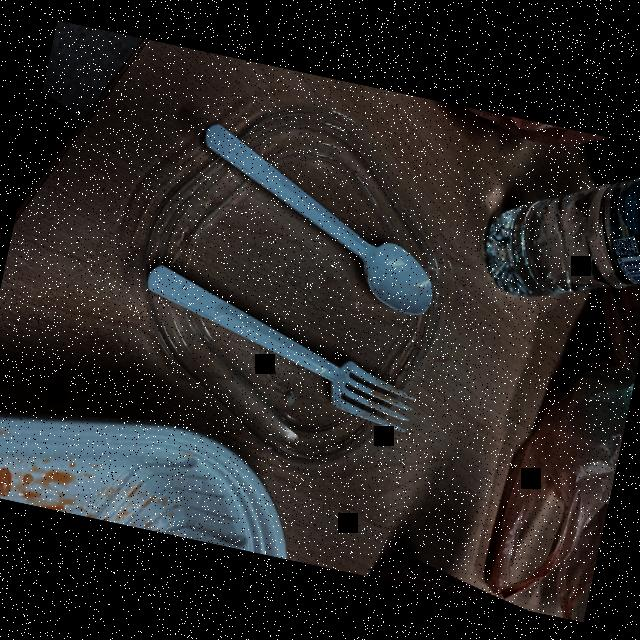plastic_spoon: (171, 115, 471, 322), (122, 248, 436, 440)
